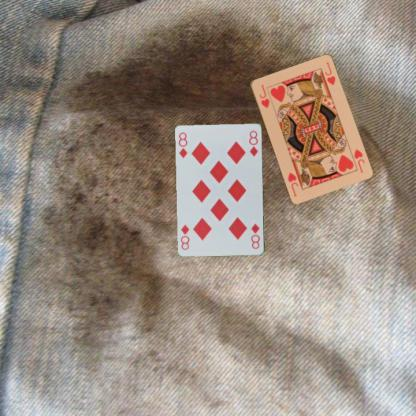8d: (176, 130, 189, 159), (249, 221, 261, 250)
Jh: (351, 146, 366, 174), (256, 82, 271, 109)
